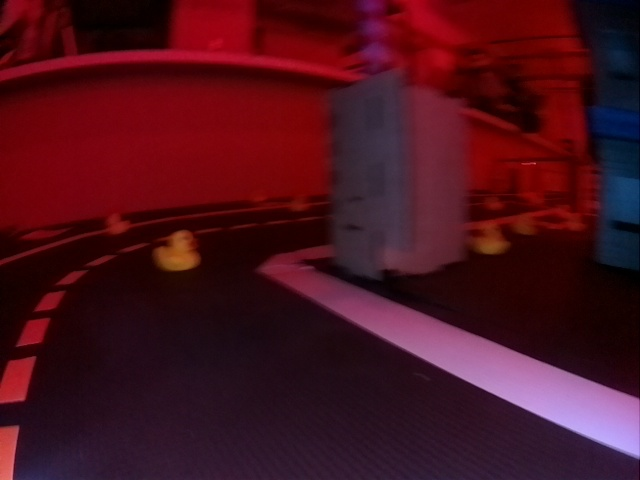Duckie: (156, 232, 200, 269), (476, 224, 510, 256), (107, 213, 130, 234)
